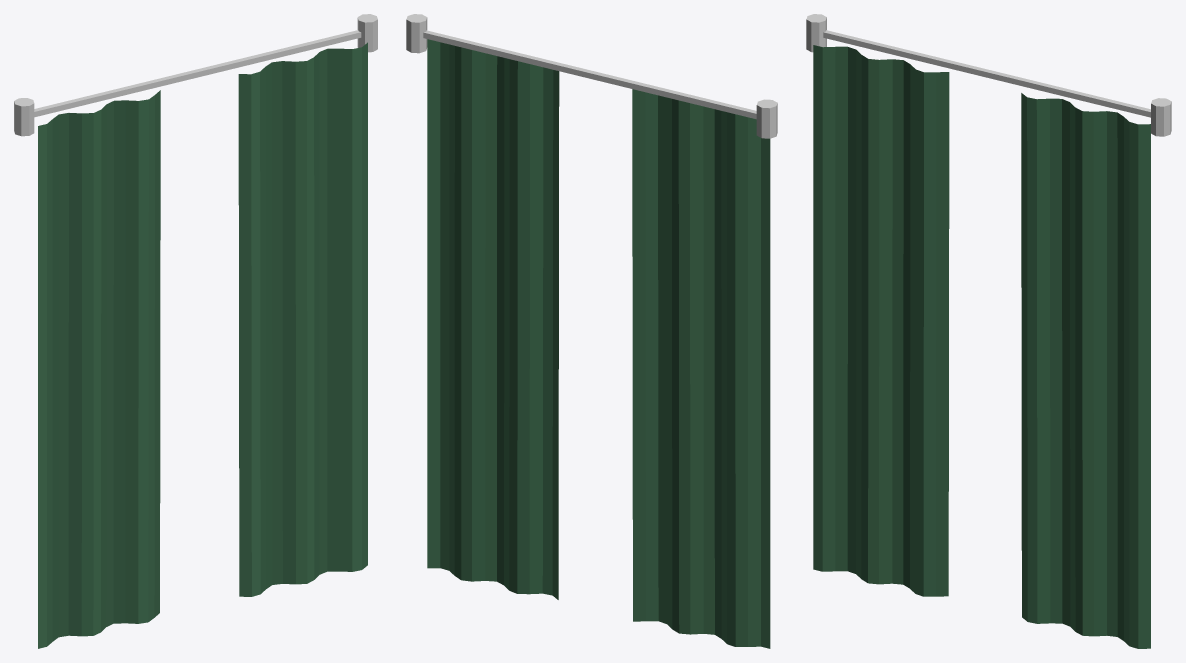
File: curtains-green.glb
3 views of the same model, side by side, from view 1: azimuth 30°, elevation 25°; view 2: azimuth 150°, elevation 25°; view 3: azimuth 330°, elevation 25° (orthographic).
Parts seen in each view (by area): view 1: curtains-green; view 2: curtains-green; view 3: curtains-green.
Boxes of the visible parts, box(x1,y1,x2,y2) form: curtains-green: box(14, 14, 377, 648); curtains-green: box(406, 14, 777, 648); curtains-green: box(806, 14, 1171, 648).
Bounding box in the file's own units: 1.6 × 2.29 × 0.1093.
